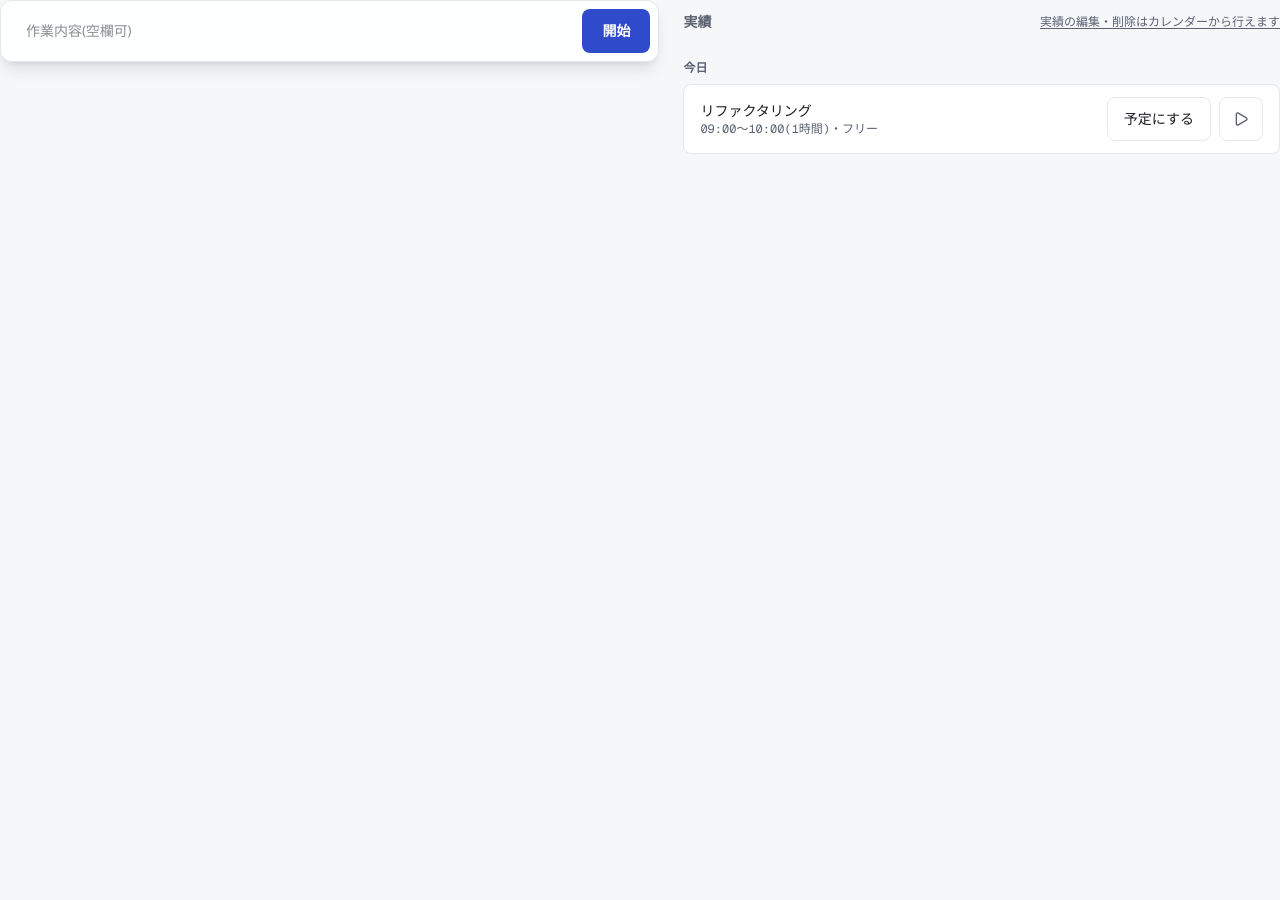
Test: 実績リスト(S7/S8/S17) › S7補: 「予定にする」をタップすると翌日同時刻を初期値にした予定作成ダイアログが開く
Step 1. Click the button with aria-label "リファクタリングを予定にする" → (1159, 119), box x1=1107 y1=97 x2=1211 y2=141
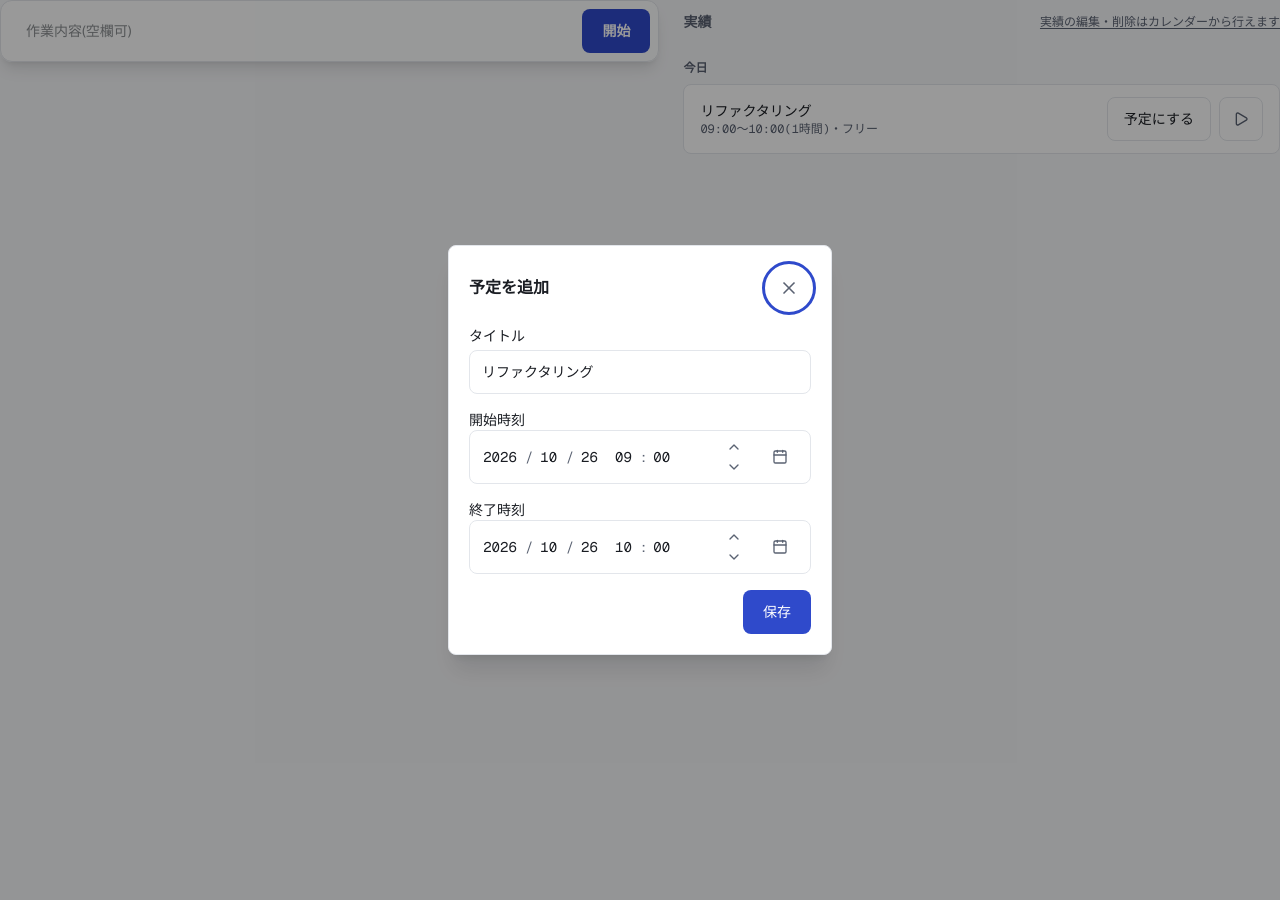
expect the field labelled "タイトル" holds "リファクタリング": met, box x1=469 y1=350 x2=811 y2=394
